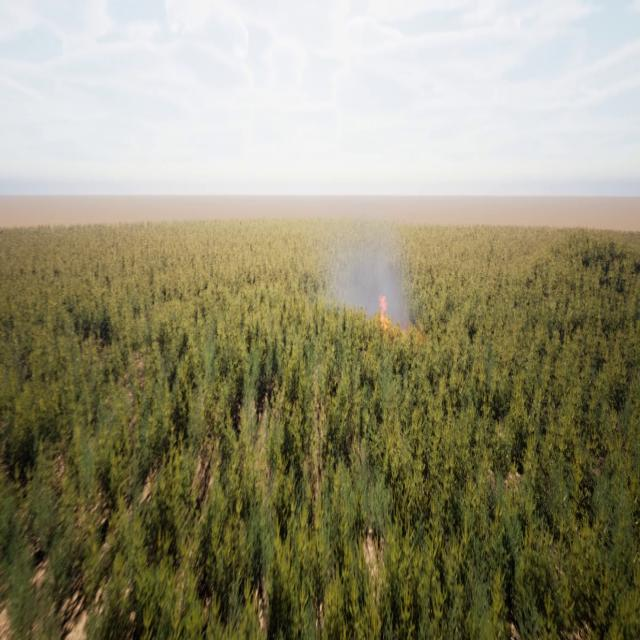fire: (378, 291, 391, 325)
smoke: (327, 225, 412, 338)
